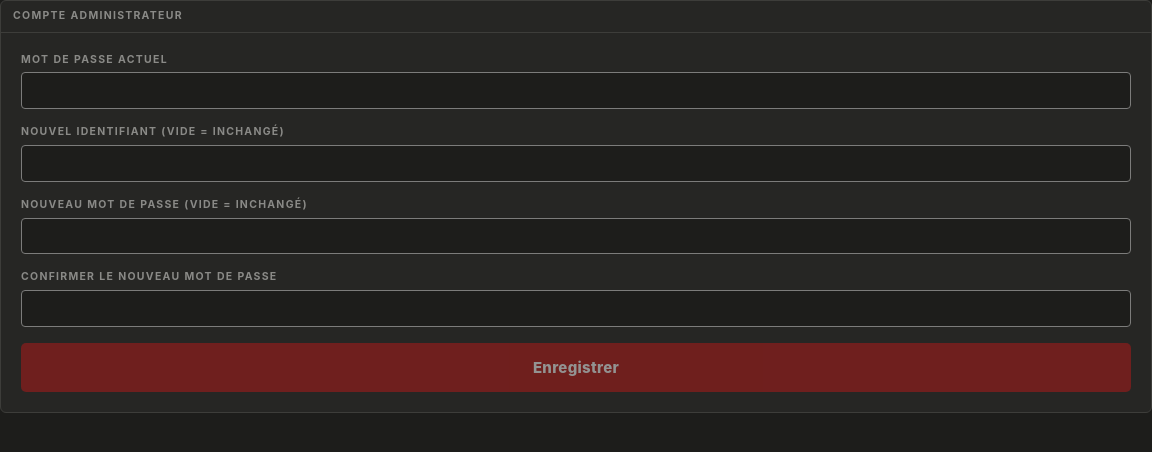
Test: CA E10US006 — modifier les identifiants › un mot de passe actuel faux s’affiche sans purger la session
In the password field labelled "Mot de passe actuel": (576, 91) [21,72,1131,109], type "faux"
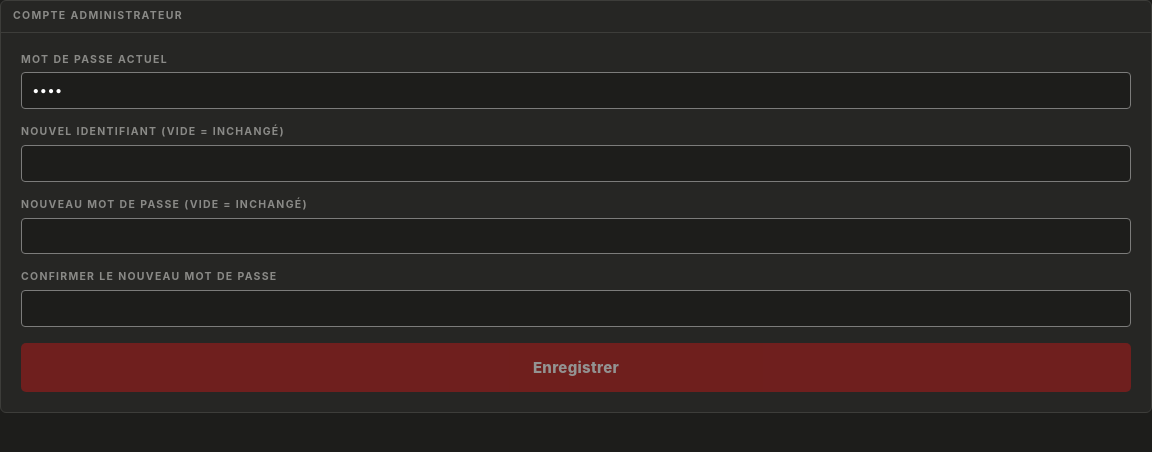
In the field labelled "Nouvel identifiant (vide = inchangé)": (576, 163) [21,145,1131,182], type "arbitre"
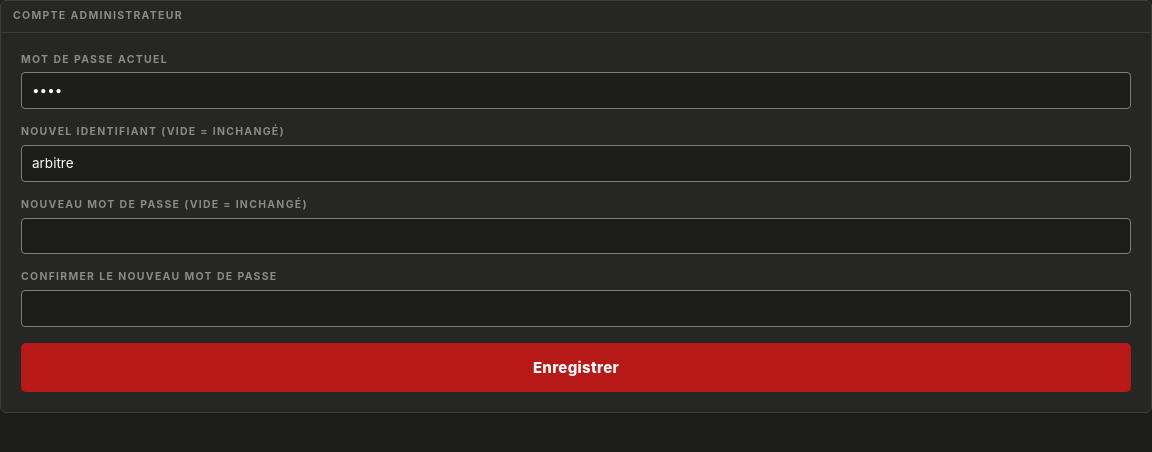
Click the button "Enregistrer": (576, 368) [21,343,1131,392]
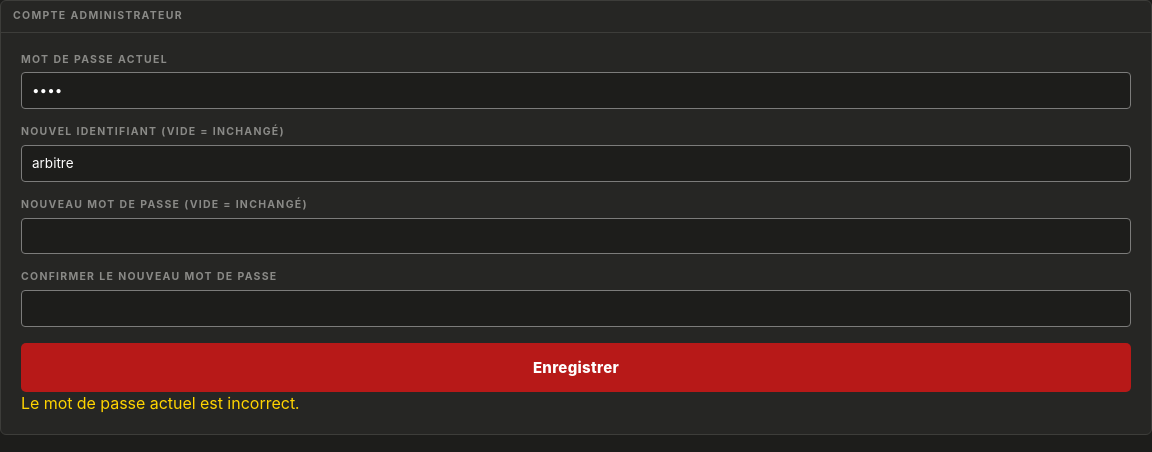
Now the message shows "mot de passe actuel", box [21,393,299,413]
